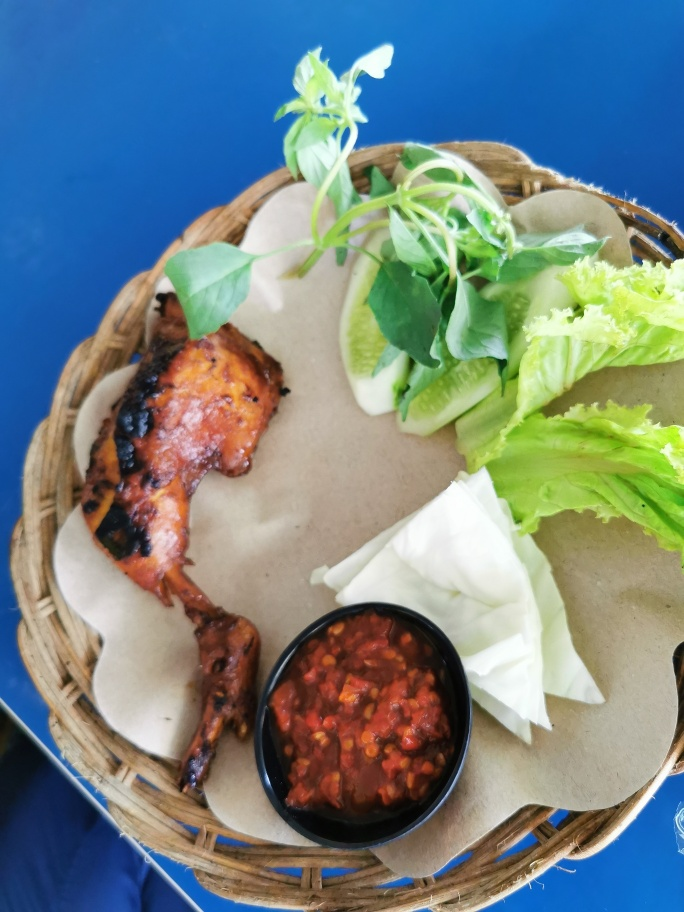ayam bakar: (89, 295, 313, 791)
